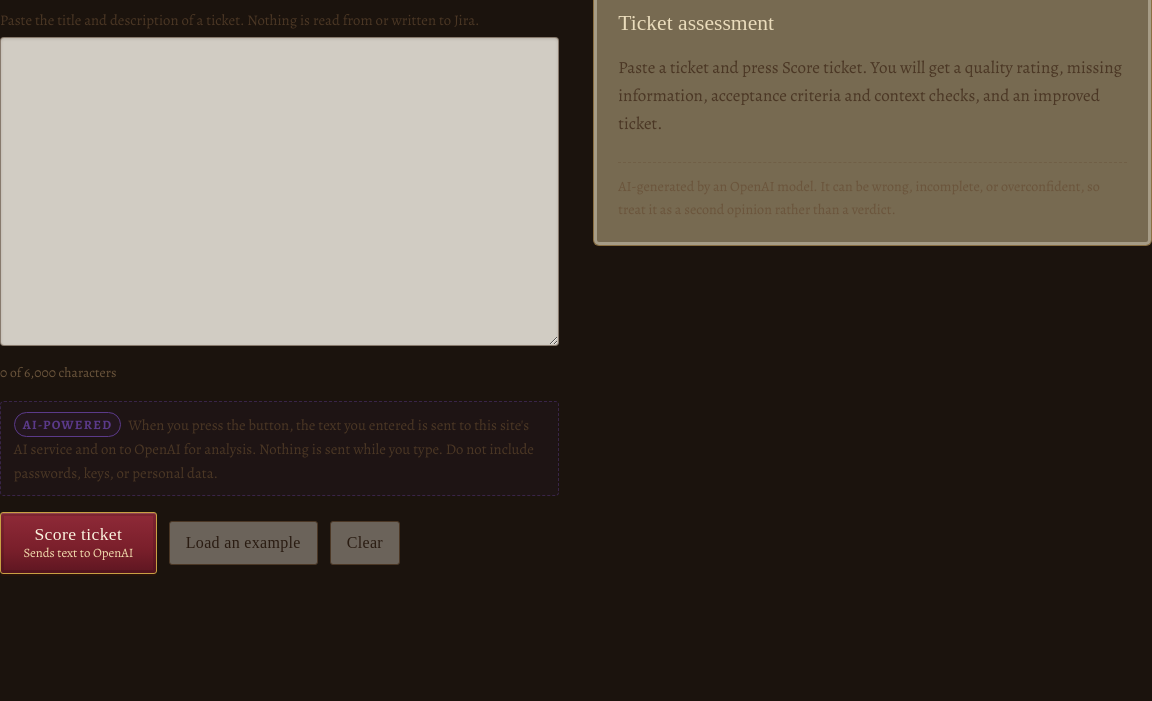
AI instruments: requests › JIRA Ticket Scorer renders quality, missing information, criteria, context and an improved ticket
In the text box labelled "Ticket": {"x": 279, "y": 192} [0,37,559,346], type "Login broken"
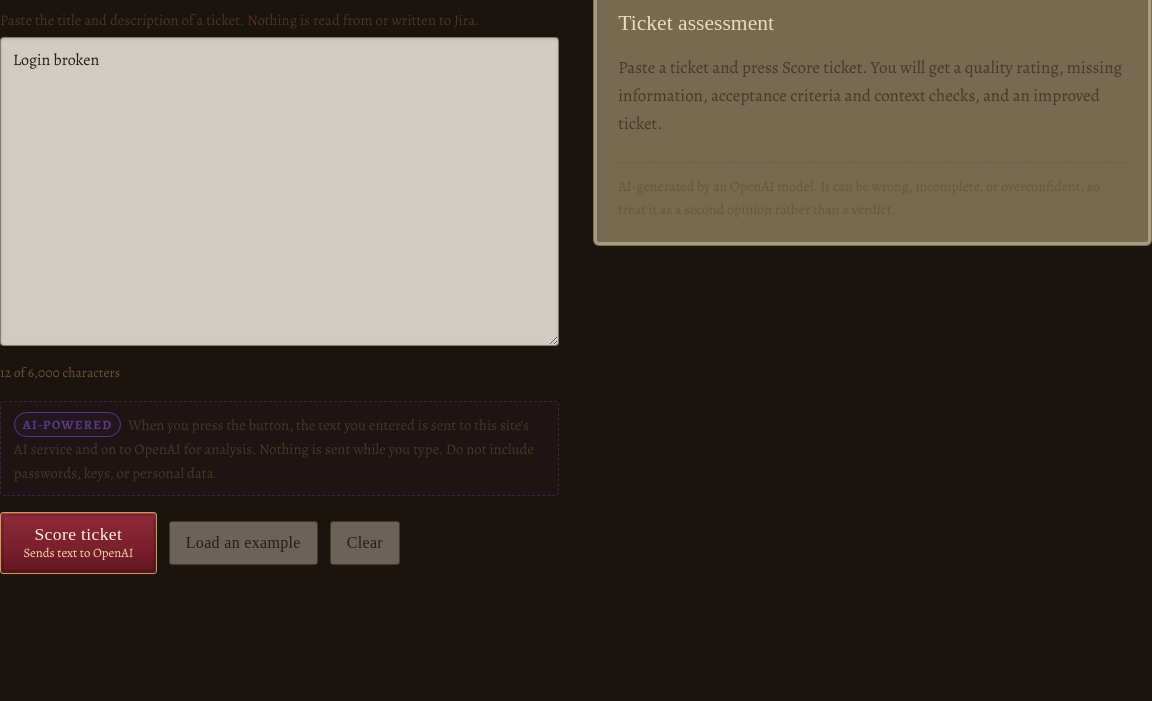
Click the button "Score ticket Sends text to OpenAI": {"x": 78, "y": 543} [0,512,157,574]
(page scrolled)
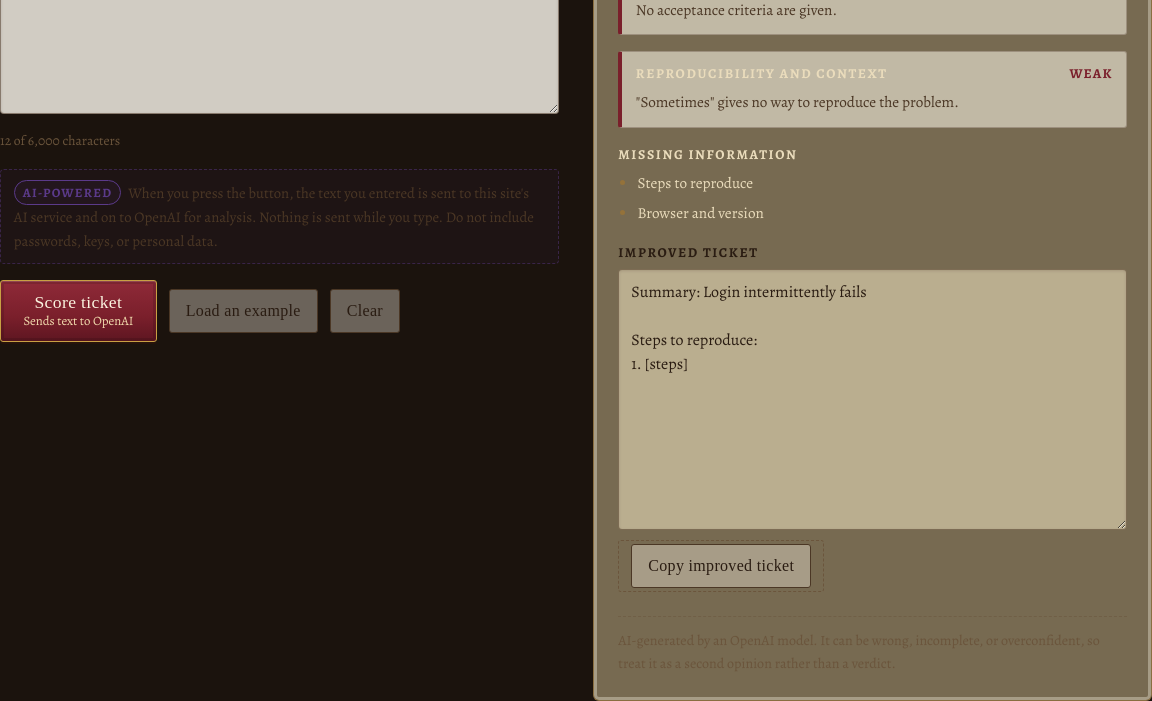
Now the element with test id "pv-jt-result" shows "Missing information", box [618,145,798,164]
Now the element with test id "pv-jt-result" shows "Reproducibility and context", box [636,64,888,83]
